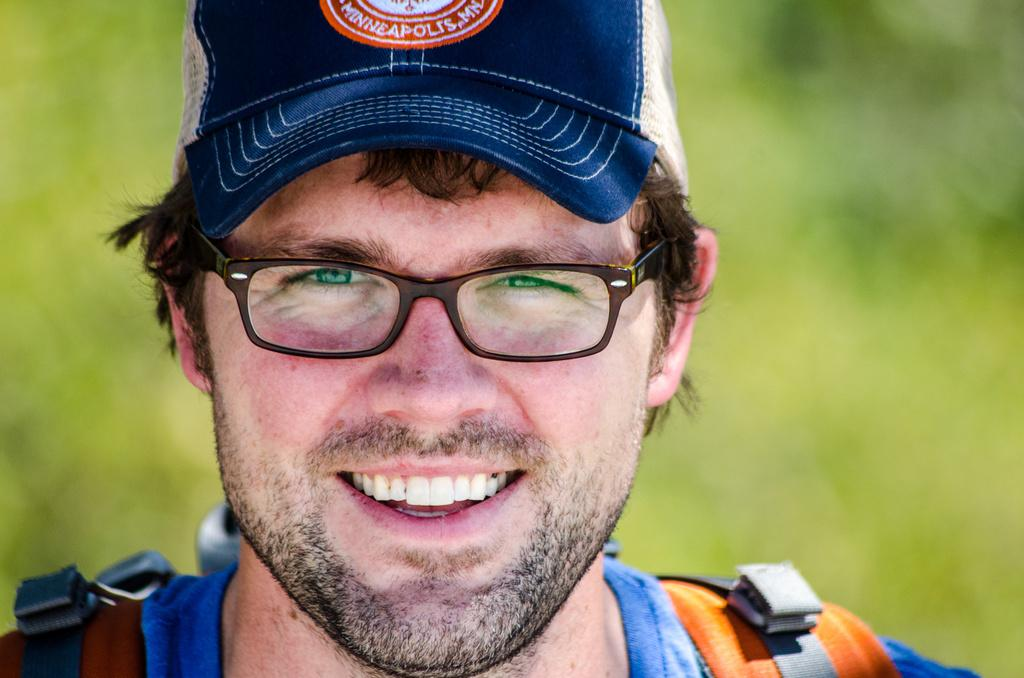Hat: (170, 0, 684, 239)
